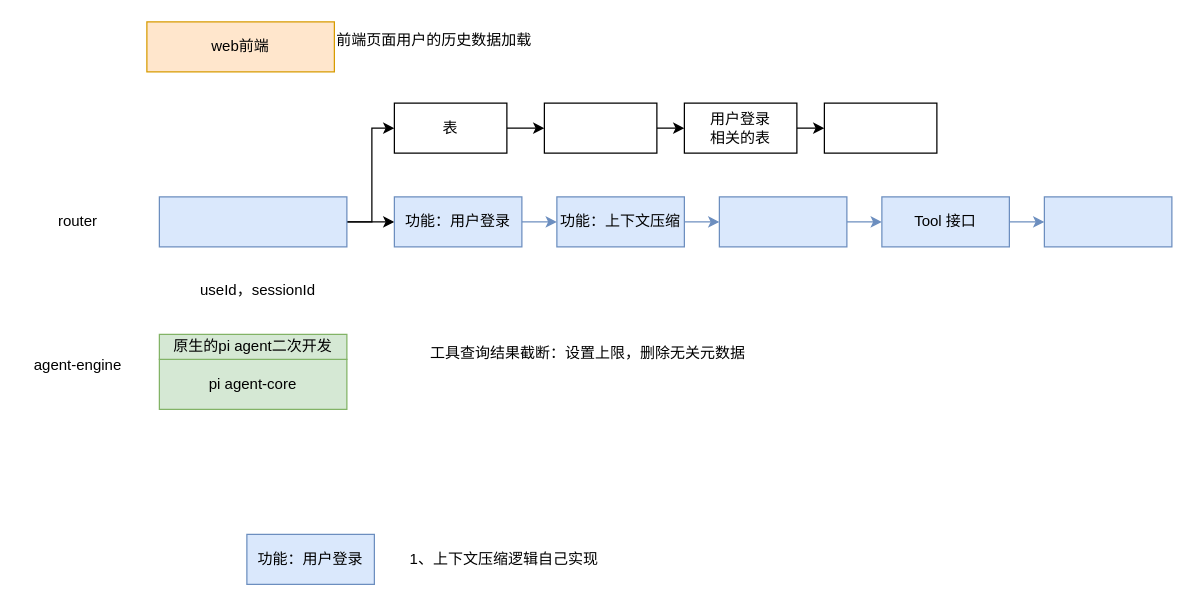
The diagram is 1194 pixels wide and 606 high, and some of its shapes have lost their labels. The shapes that lost their labels are listed below. From the top down, each one's centre as x and y in pixels, then its label:
At point 600,127: "对话历史数据".
At point 880,127: "案件库".
At point 252,221: "python层".
At point 782,221: "摘要生成".
At point 1107,221: "SSE 代理网关".
